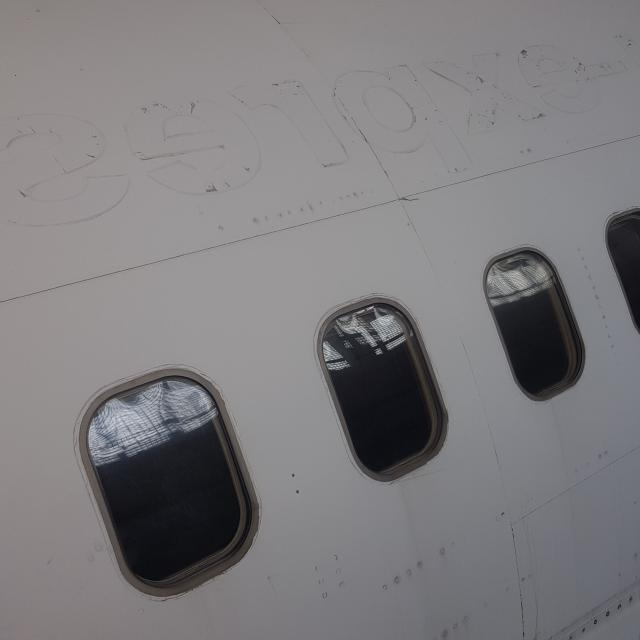Rupture: (399, 192, 424, 204)
